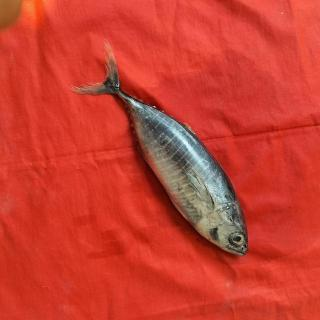Ikan: (81, 45, 263, 269)
